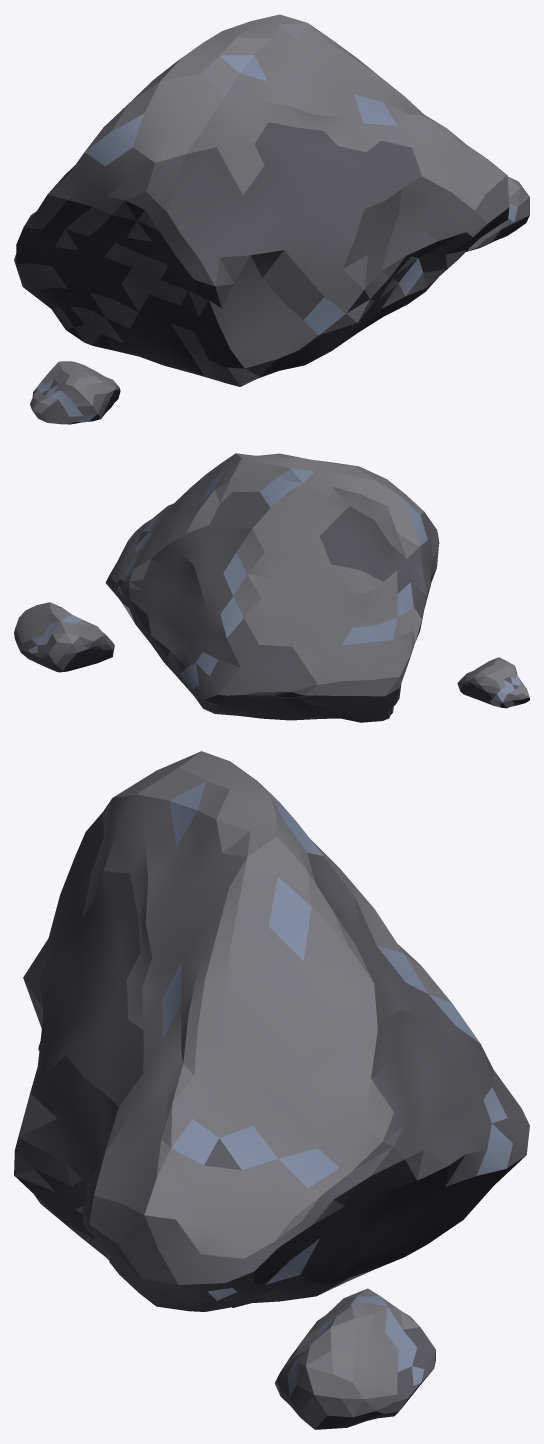
File: rock_moon_a.glb
3 views of the same model, one above another, from view 1: azimuth 30°, elevation 25°; view 2: azimuth 150°, elevation 25°; view 3: azimuth 270°, elevation 25° (orthographic). The views are drawn at different scales.
Visible parts, largest first — view 1: rock_moon_a; view 2: rock_moon_a; view 3: rock_moon_a.
Boxes of the visible parts, <box> form: rock_moon_a: <box>14,14,529,424</box>; rock_moon_a: <box>14,453,529,722</box>; rock_moon_a: <box>14,751,529,1429</box>.
Size of the model in its own units: 3.8 by 1.82 by 2.04.
